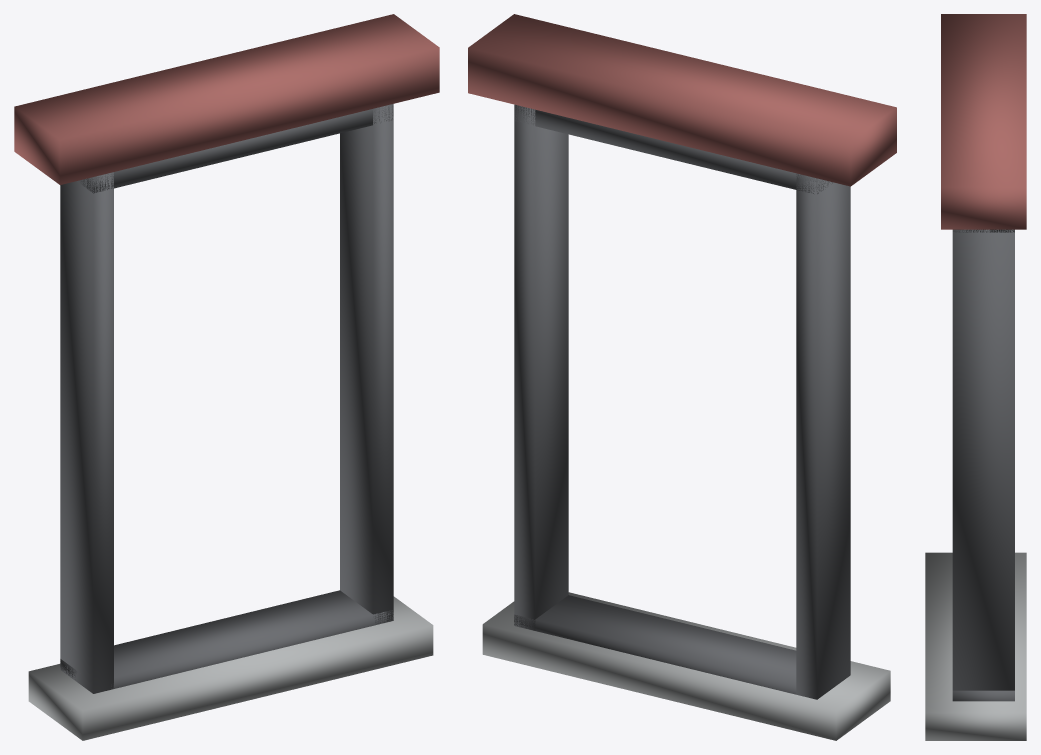
The model's file is egress_window_brick_w72_h130_s88_d16.glb.
The picture shows the model from 3 angles, left to right: view 1: azimuth 30°, elevation 25°; view 2: azimuth 150°, elevation 25°; view 3: azimuth 270°, elevation 25°; orthographic projection. The views are drawn at different scales.
Visible parts, largest first — view 1: world; view 2: world; view 3: world.
Boxes of the visible parts, x1,y1,x2,y2 form: world: (14,14,439,740); world: (468,14,896,740); world: (925,14,1026,740).
Size of the model in its own units: 1.06 by 1.59 by 0.26.
